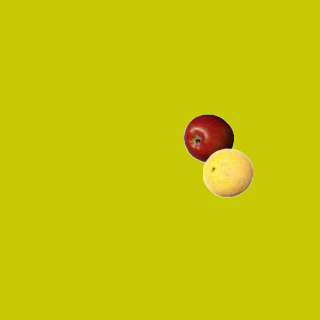Apple Braeburn: (183, 113, 233, 163)
Cantaloupe 1: (202, 147, 252, 197)
